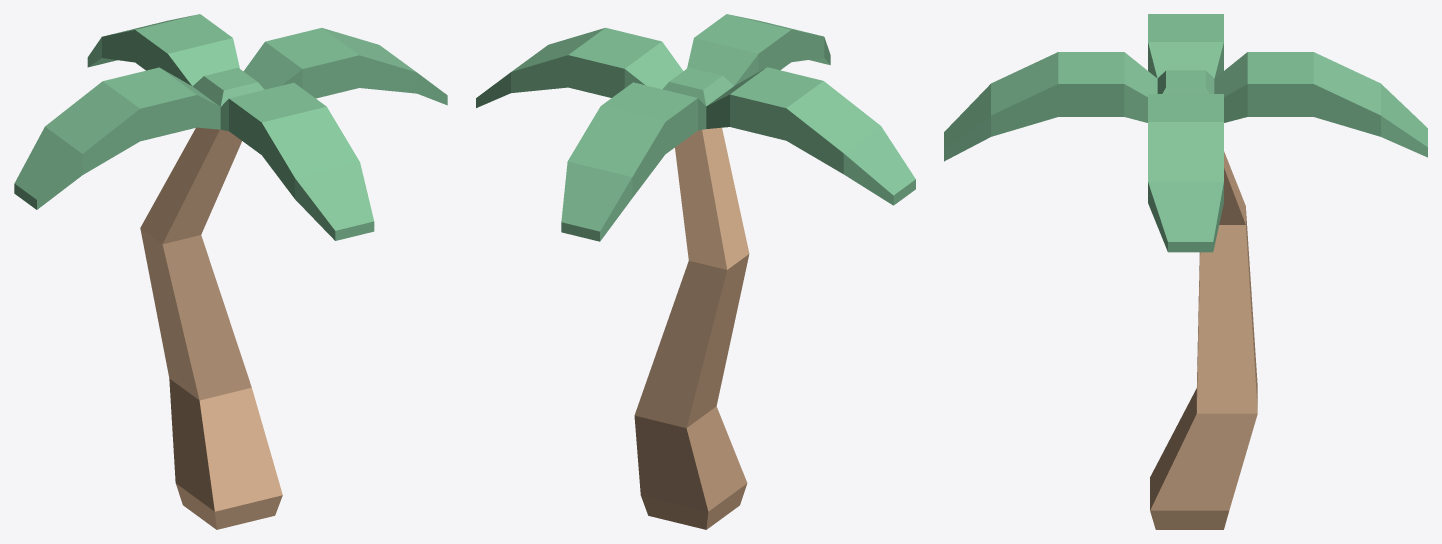
The model's file is tree-clean-2.glb.
The picture shows the model from 3 angles, left to right: view 1: azimuth 30°, elevation 25°; view 2: azimuth 150°, elevation 25°; view 3: azimuth 270°, elevation 25°; orthographic projection.
Parts seen in each view (by area): view 1: Group_25, Group_23; view 2: Group_25, Group_23; view 3: Group_25, Group_23.
Boxes of the visible parts, bbox=[...] form: Group_25: bbox=[14, 14, 447, 240]; Group_23: bbox=[140, 127, 282, 529]; Group_25: bbox=[476, 14, 915, 241]; Group_23: bbox=[634, 127, 749, 529]; Group_25: bbox=[944, 14, 1427, 252]; Group_23: bbox=[1150, 151, 1257, 529].
Bounding box in the file's own units: 1.54 × 1.58 × 1.54.
